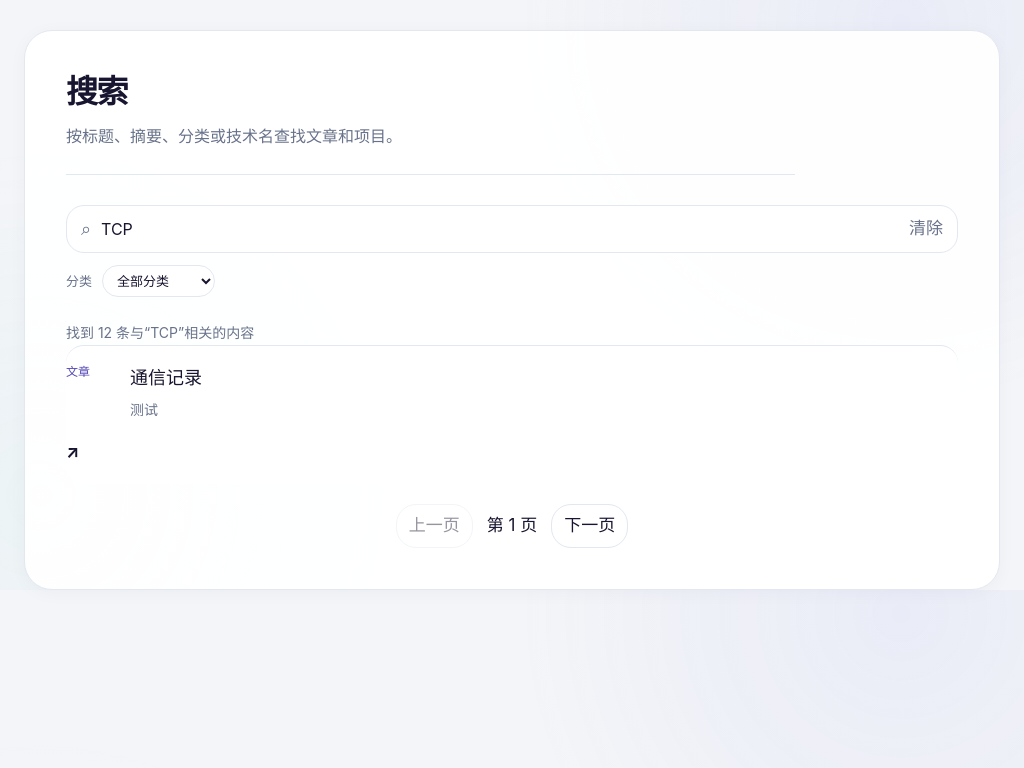
Test case: category, pagination and history restoration keep results associated with their request
Click the button "下一页".
click(590, 526)  # box top-left (551, 504), bottom-right (628, 548)
Wait 251 ms
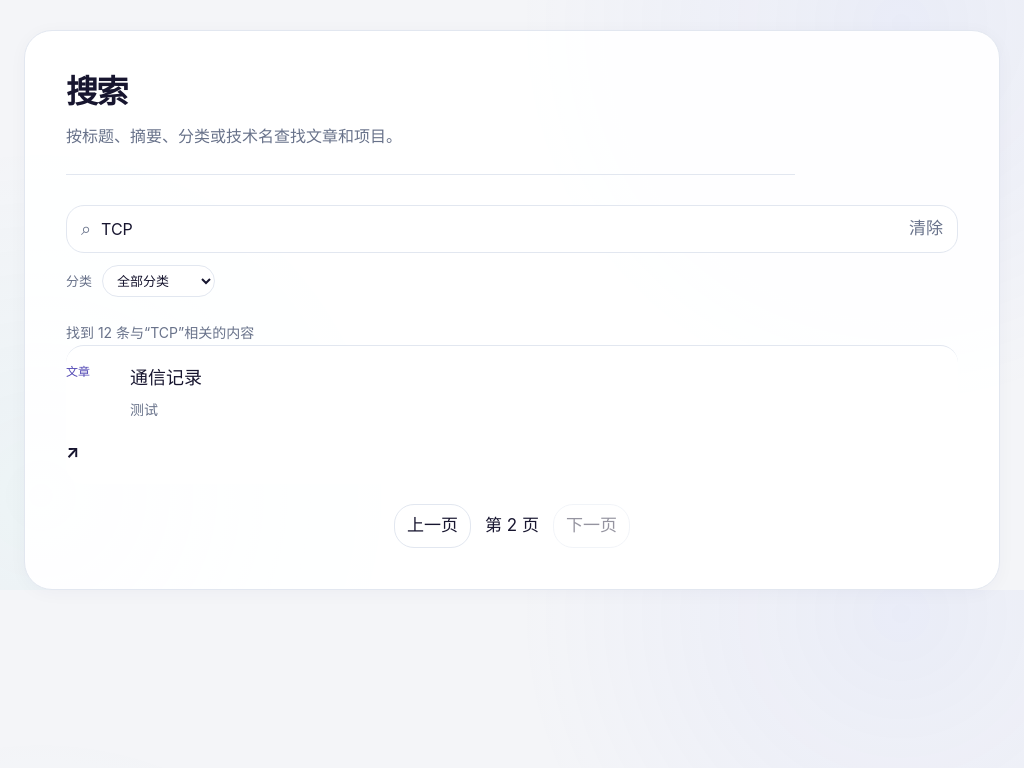
Expected: the element showing "找到 12 条与“TCP”相关的内容 文章 通信记录 测试 ↗ 上一页 第 2 页 下一页" is shown, top-left (66, 321), bottom-right (958, 548)
Select "通信" in the dropdown at (158, 281), box top-left (102, 265), bottom-right (215, 297)
Wait 502 ms
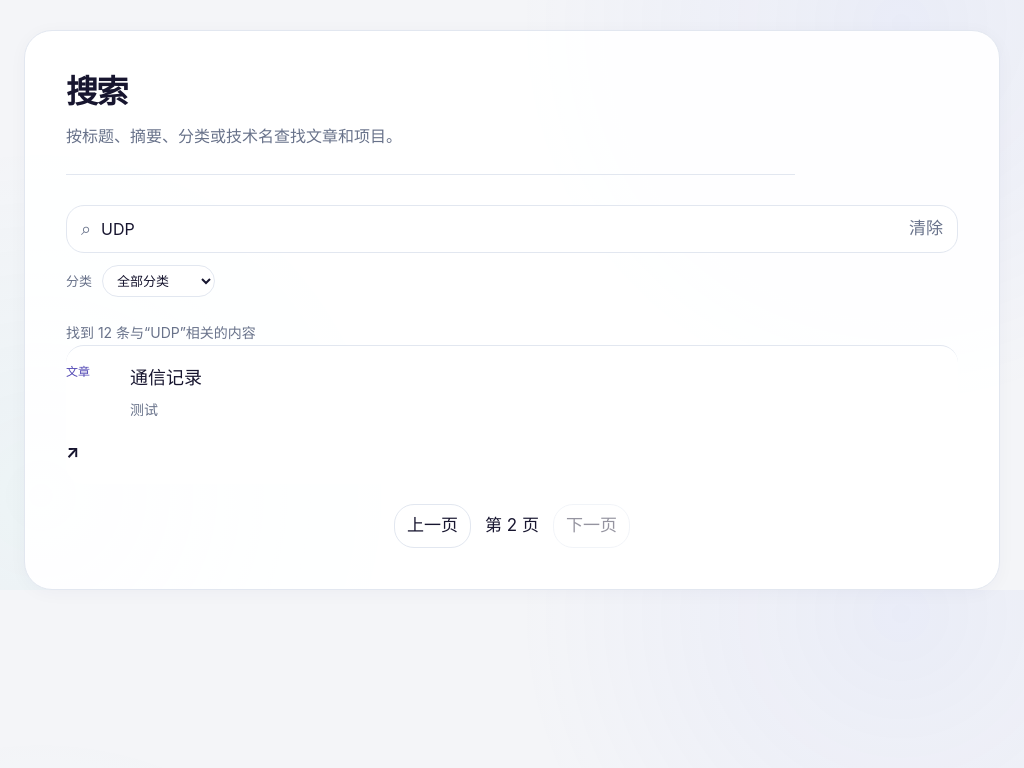
Expected: the element showing "找到 12 条与“UDP”相关的内容 文章 通信记录 测试 ↗ 上一页 第 2 页 下一页" is shown, top-left (66, 321), bottom-right (958, 548)
Expected: the field named "搜索文章和项目" holds "UDP", top-left (101, 215), bottom-right (899, 243)
